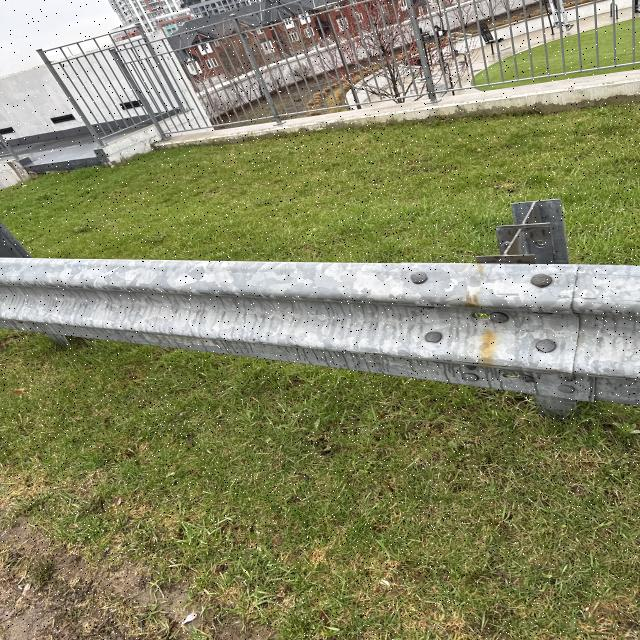Guard rail: (22, 213, 628, 395)
